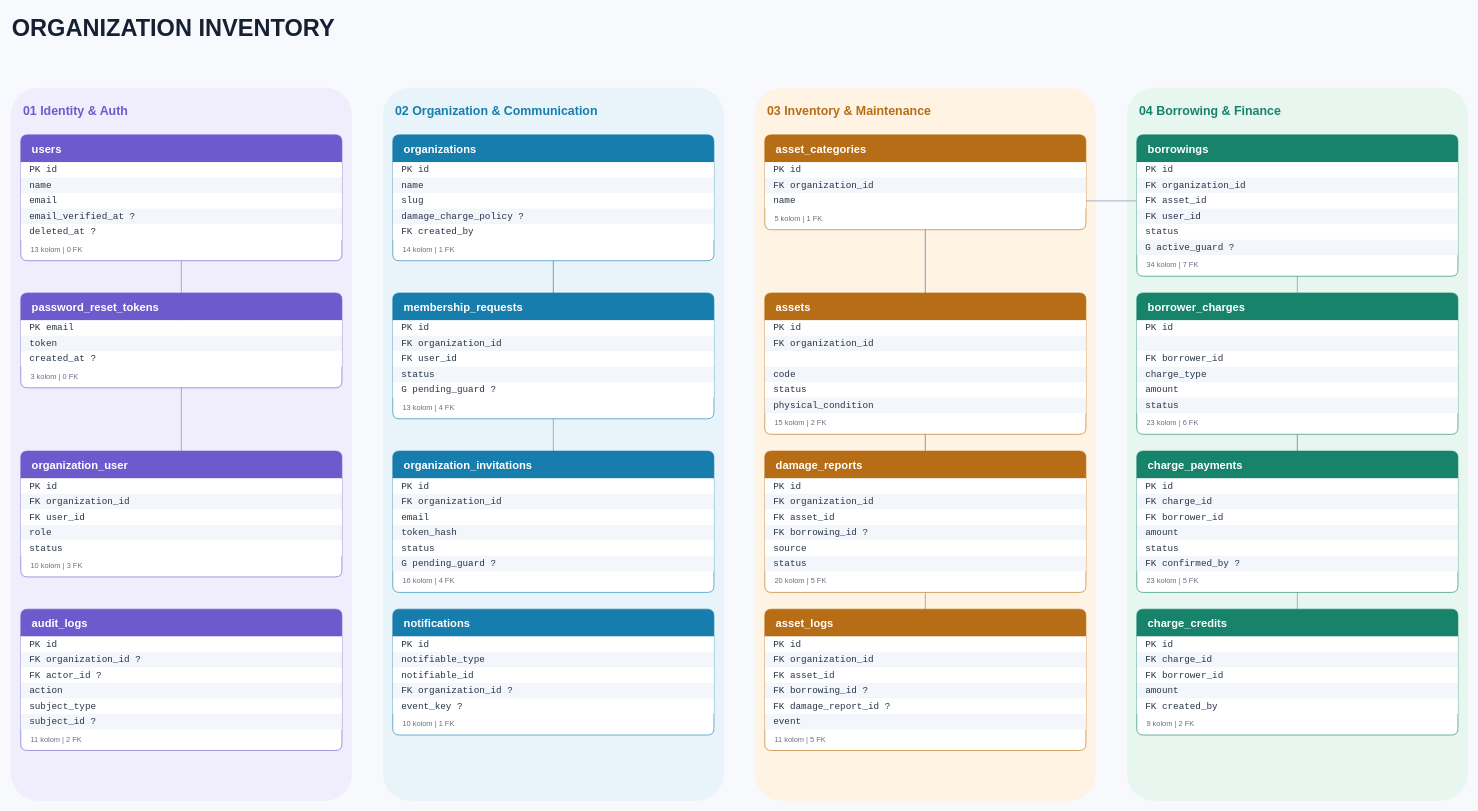
Some shapes in this 1478 by 811 pixel diagram are drawn without their labels. Here are the shapes that lost their labels. From the top down, the centre of each, then its label:
At point (925, 358): "FK asset_category_id".
At point (1297, 343): "FK borrowing_id".
